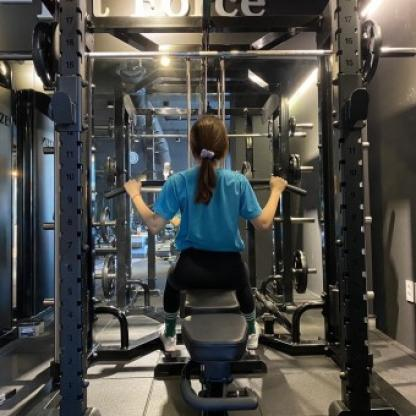Lat Pull Down: (67, 0, 353, 414)
